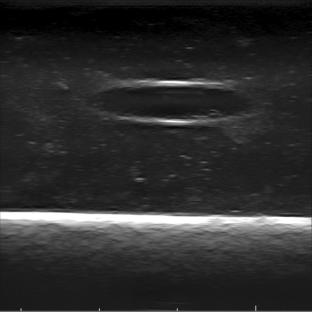vessel: (94, 79, 257, 126)
